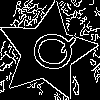Q: (22, 27, 78, 75)
